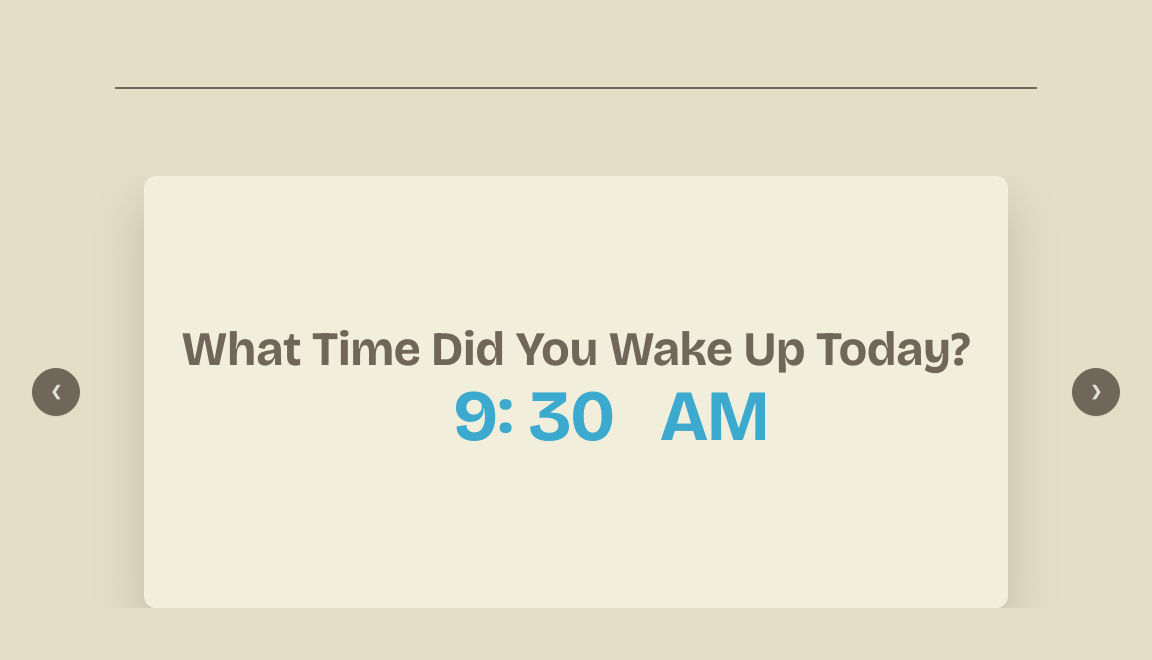
Test: Testing slider buttons › Goes to next carousel with next button
The image size is (1152, 660).
Step 1. Click the button "❯" → (1096, 392), box [1072,368,1120,416]
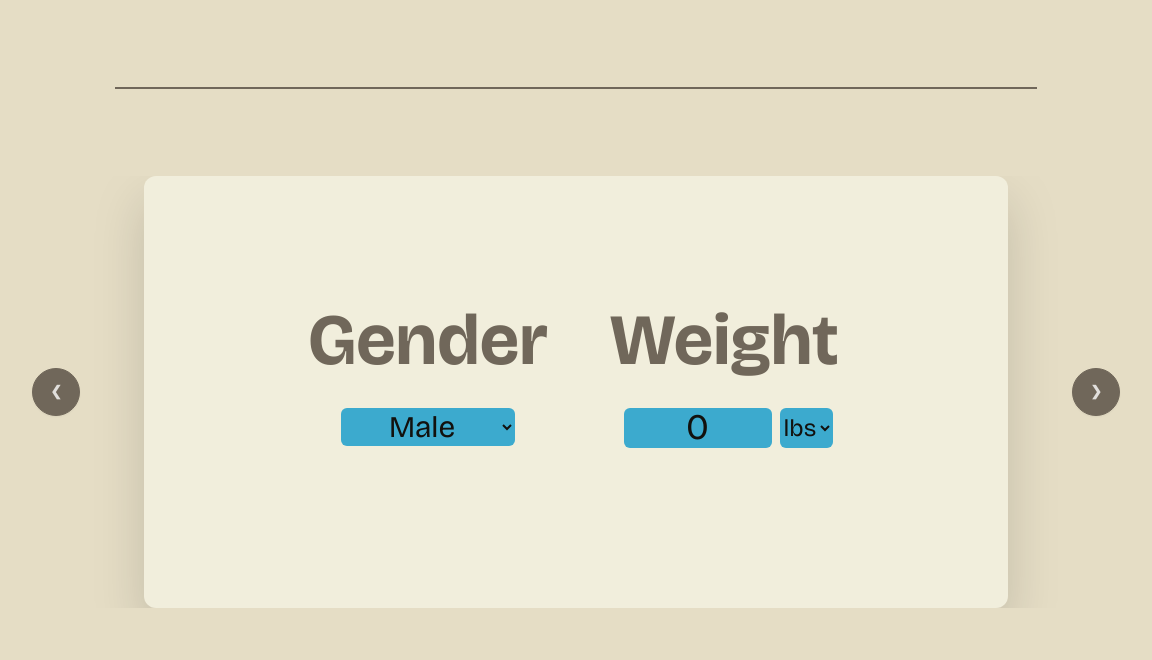
Expected: the heading "Gender" is shown, [308,297,548,383]
